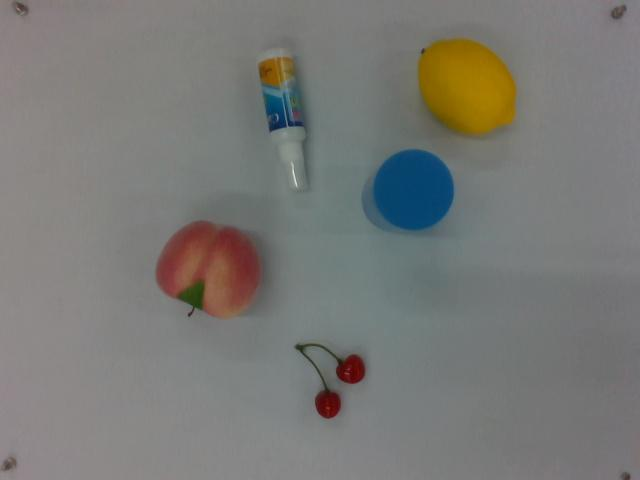cherry: (291, 335, 368, 425)
cylinder: (362, 146, 455, 239)
detergent: (254, 41, 312, 196)
lemon: (415, 35, 521, 141)
peach: (157, 219, 261, 324)
